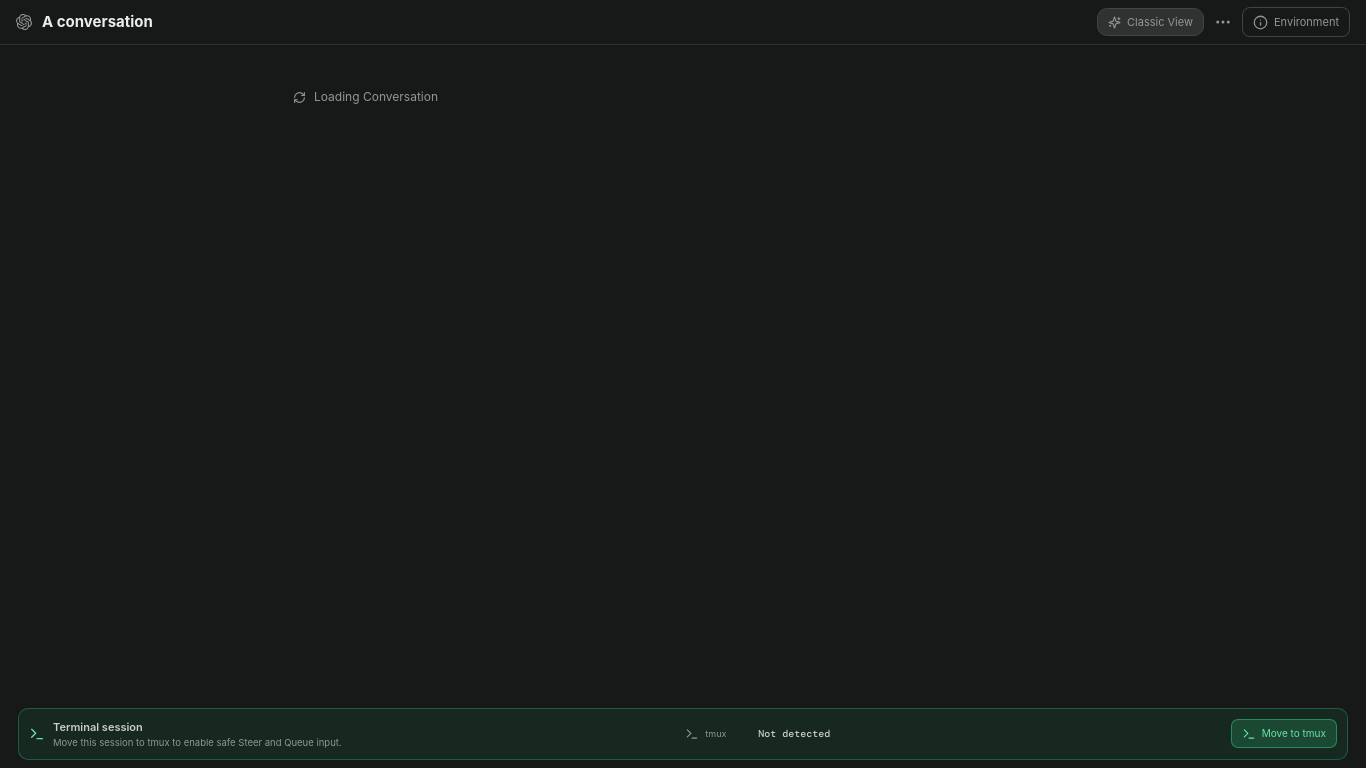
Test: SessionScreen · taking control of a terminal session › offers to move a bare terminal session into tmux
Click the button "Move to tmux": (1284, 734) [1231, 719, 1337, 748]
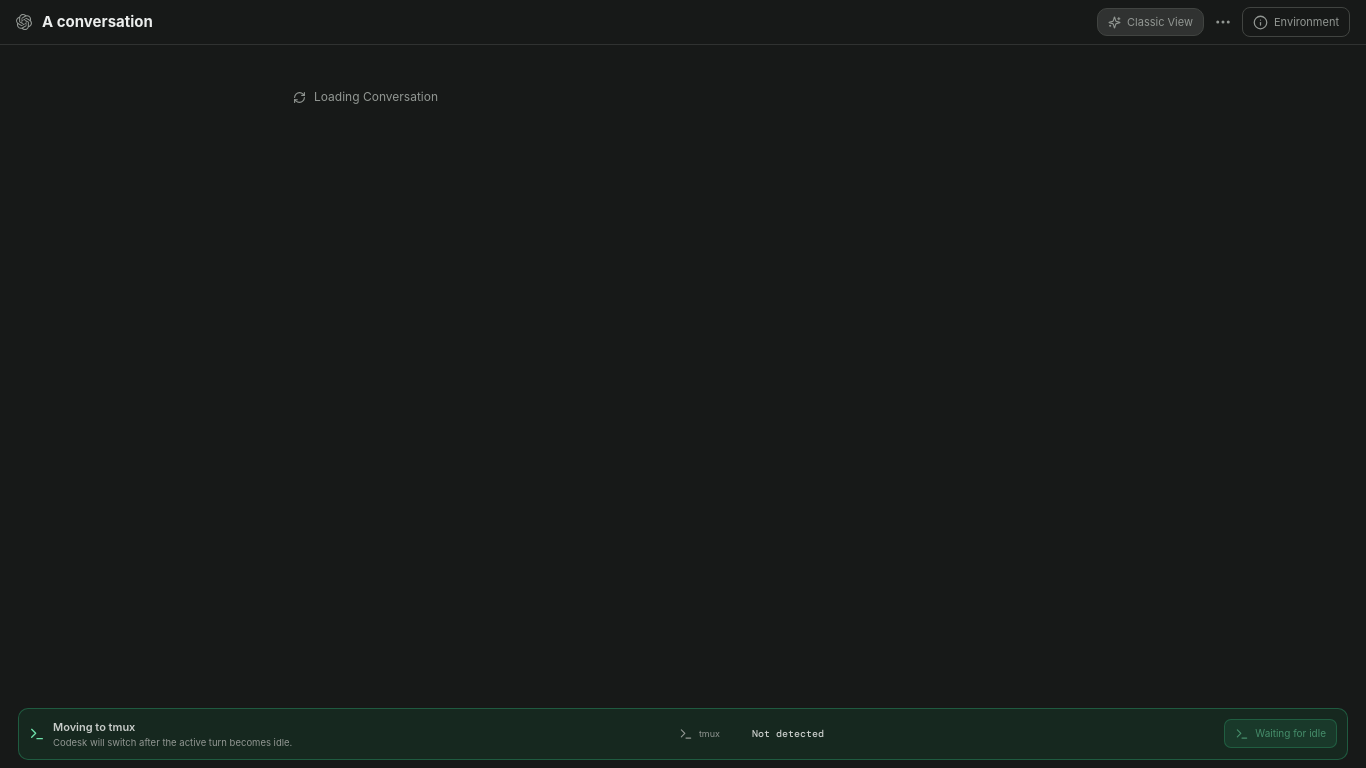
Result: the button "Waiting for idle" is shown at [1224, 719, 1337, 748]
